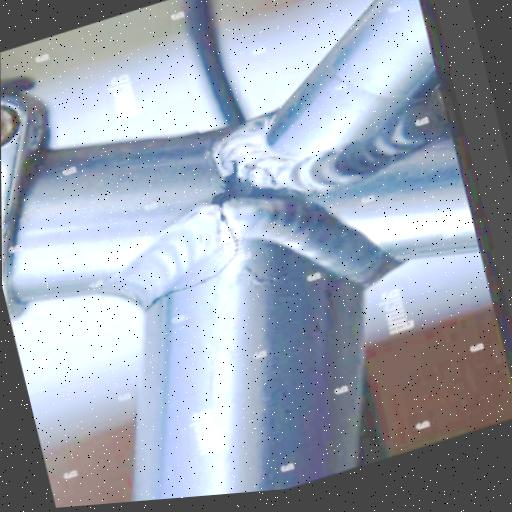crack: (124, 185, 253, 318)
